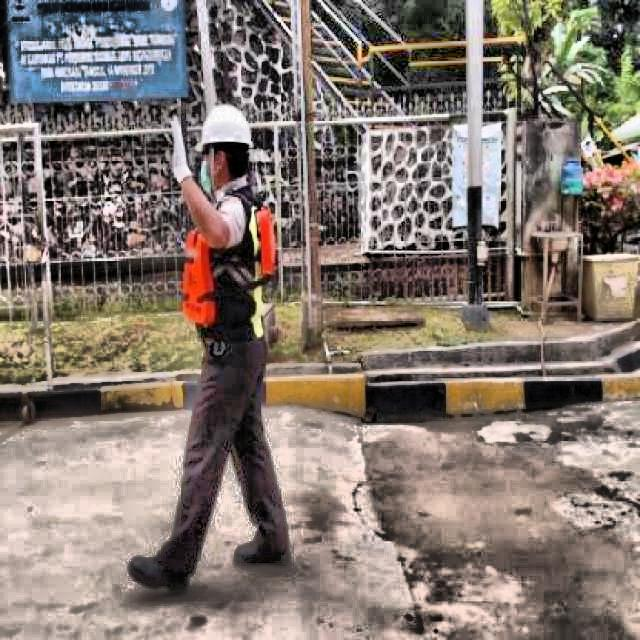safety_helmet: (194, 104, 254, 150)
safety_jacket: (180, 192, 288, 348)
